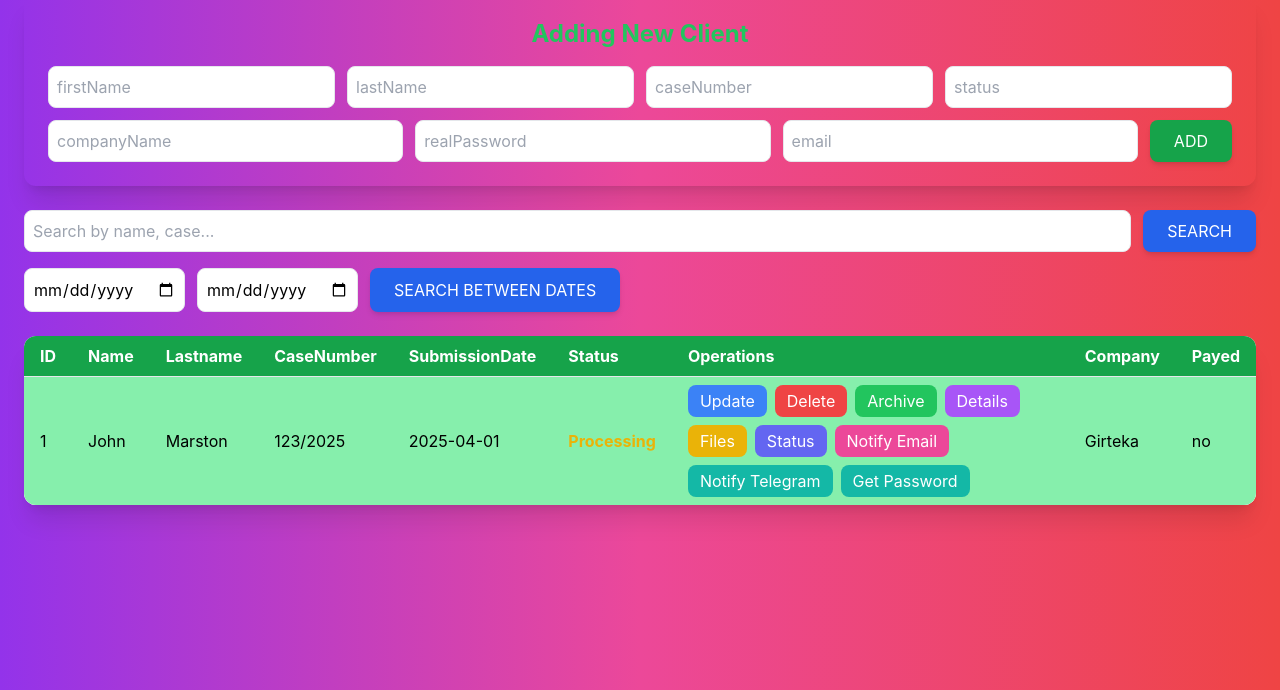
ActualClientsList - handleDelete, handleArchive ,handleUpdate, fetchClientDetails, updateClientNote › Updates client note correctly
Expected: the text "John" is shown, [72,376,150,505]
Click the button "Details" at (982,401), box [944,385,1020,417]
(page scrolled)
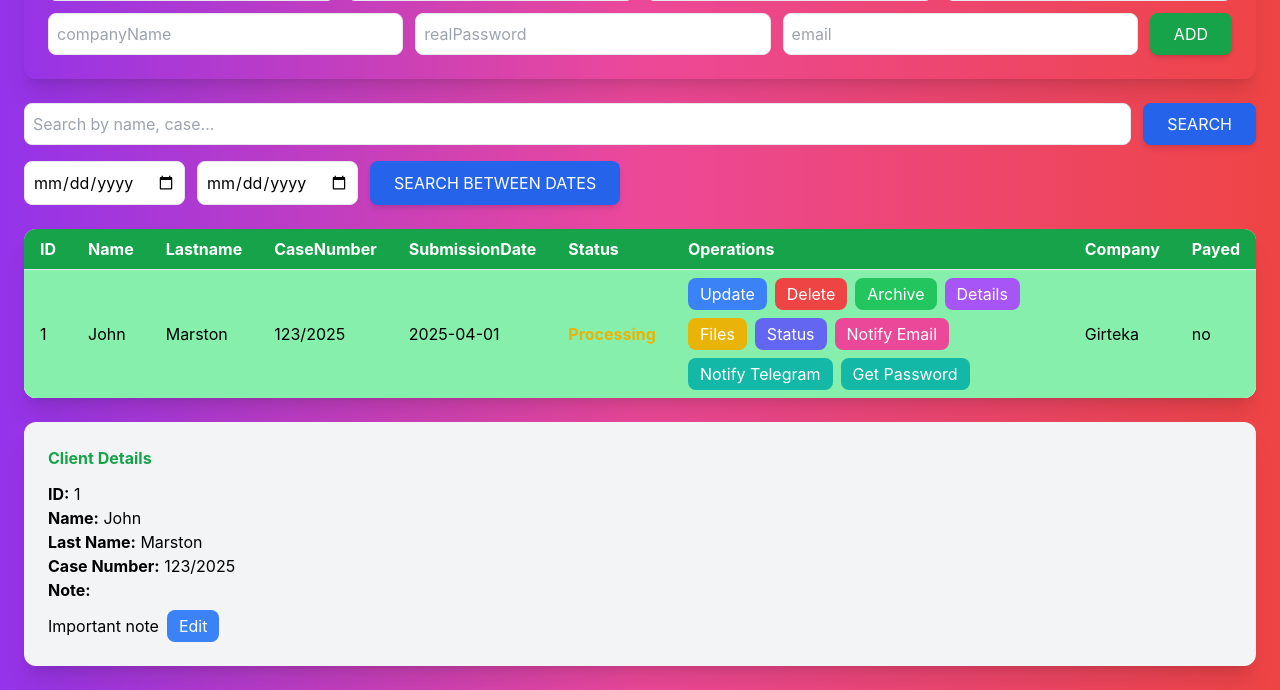
Now the heading "Client Details" is shown, box [48,448,152,468]
Click the button "Edit" at (193,626), box [167,610,219,642]
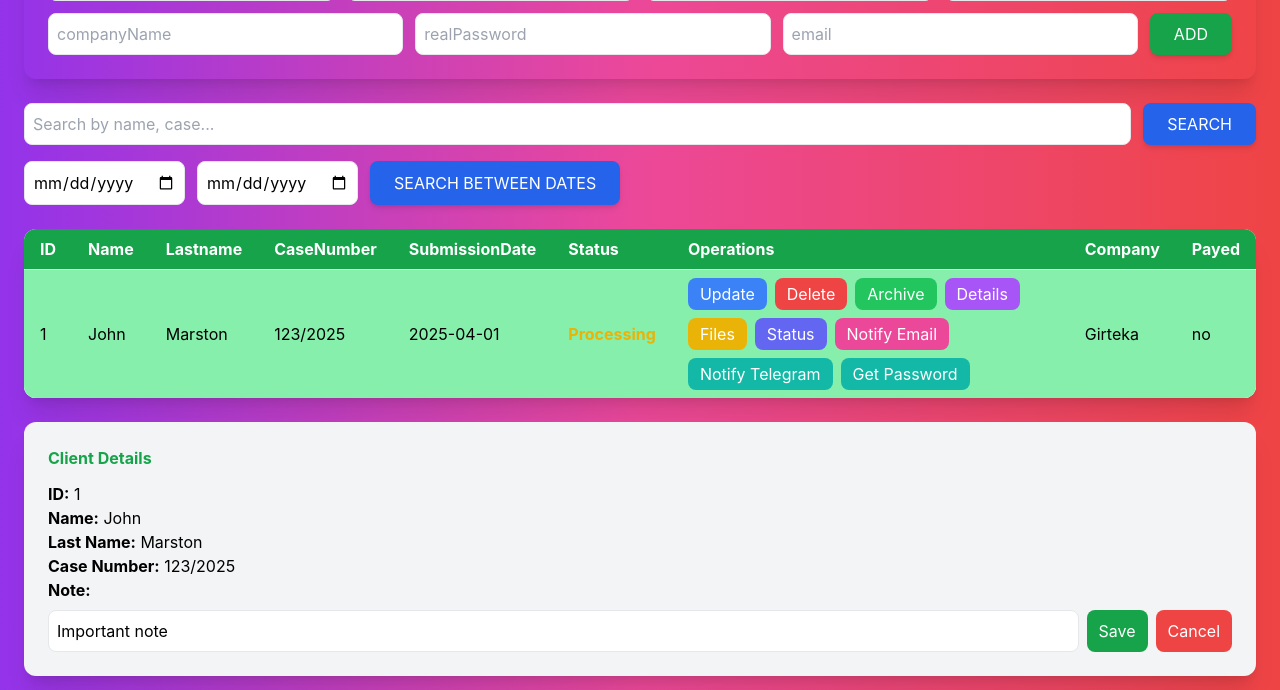
Replace the text in the field showing "Important note" with "Updated note" at (563,631), box [48,610,1078,652]
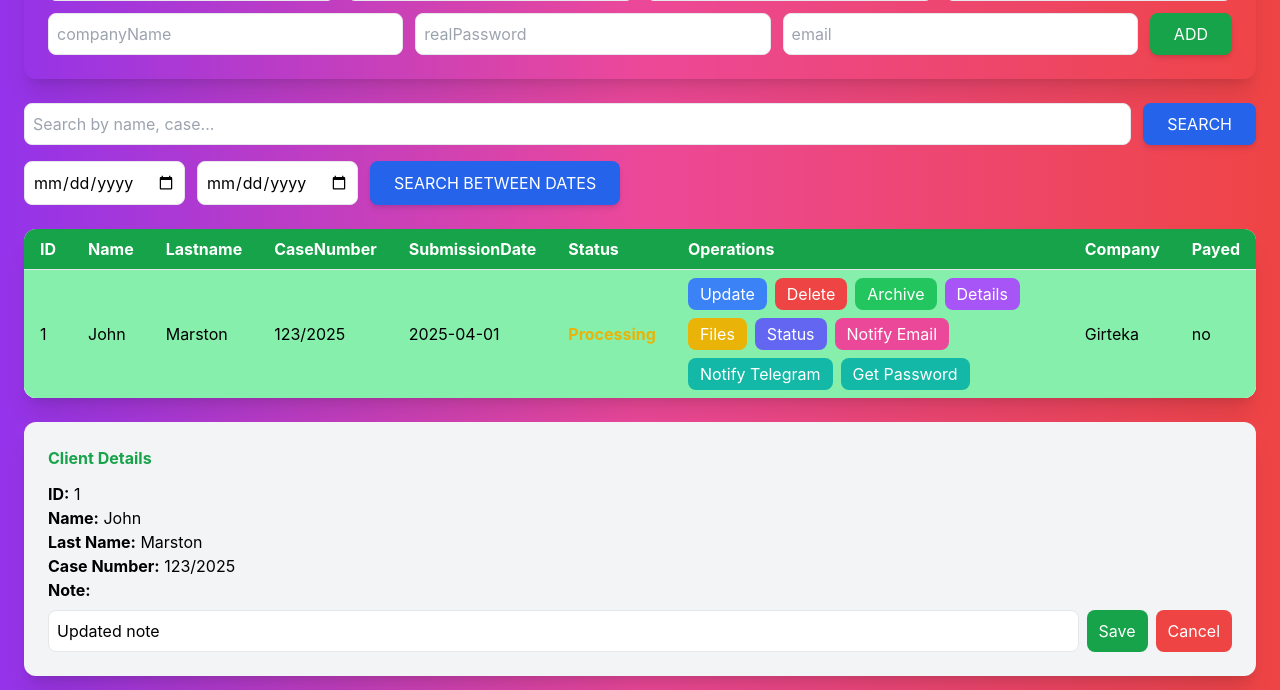
Click the button "Save" at (1117,631), box [1086,610,1148,652]
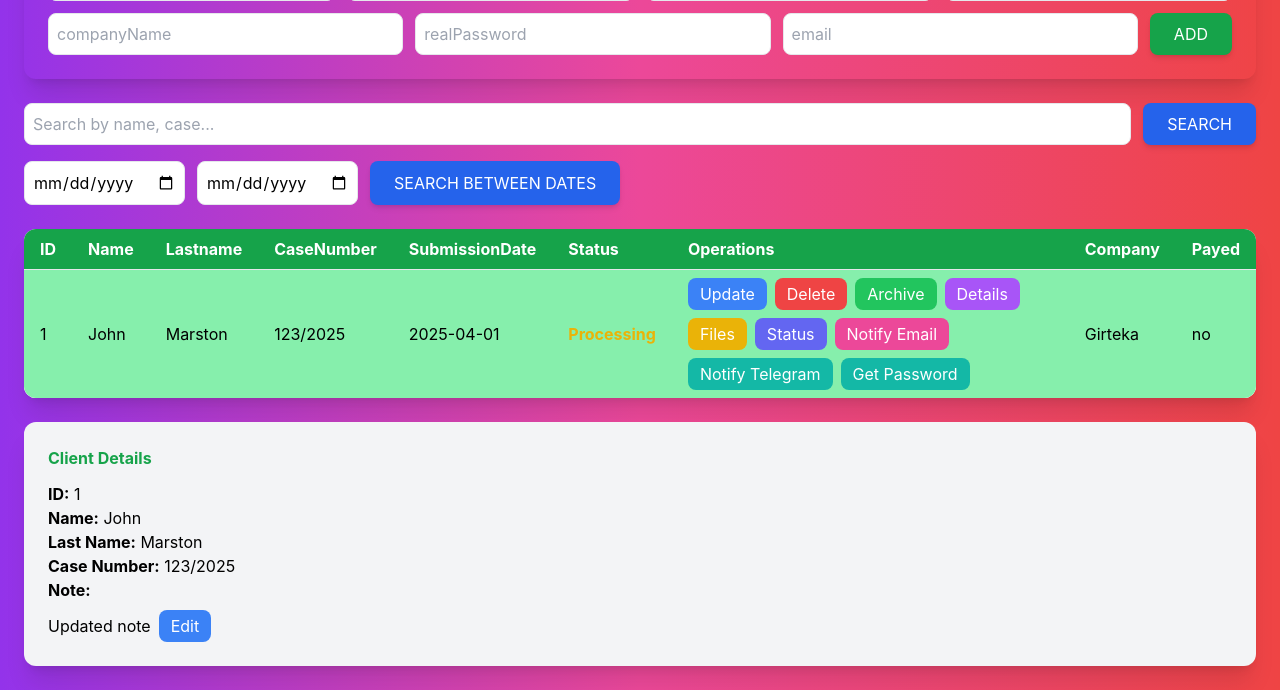
Now the text "Updated note" is shown, box [48,614,151,638]
